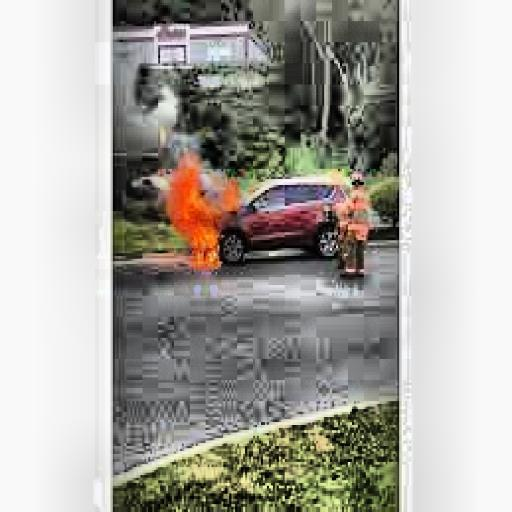fire: (162, 156, 249, 272)
